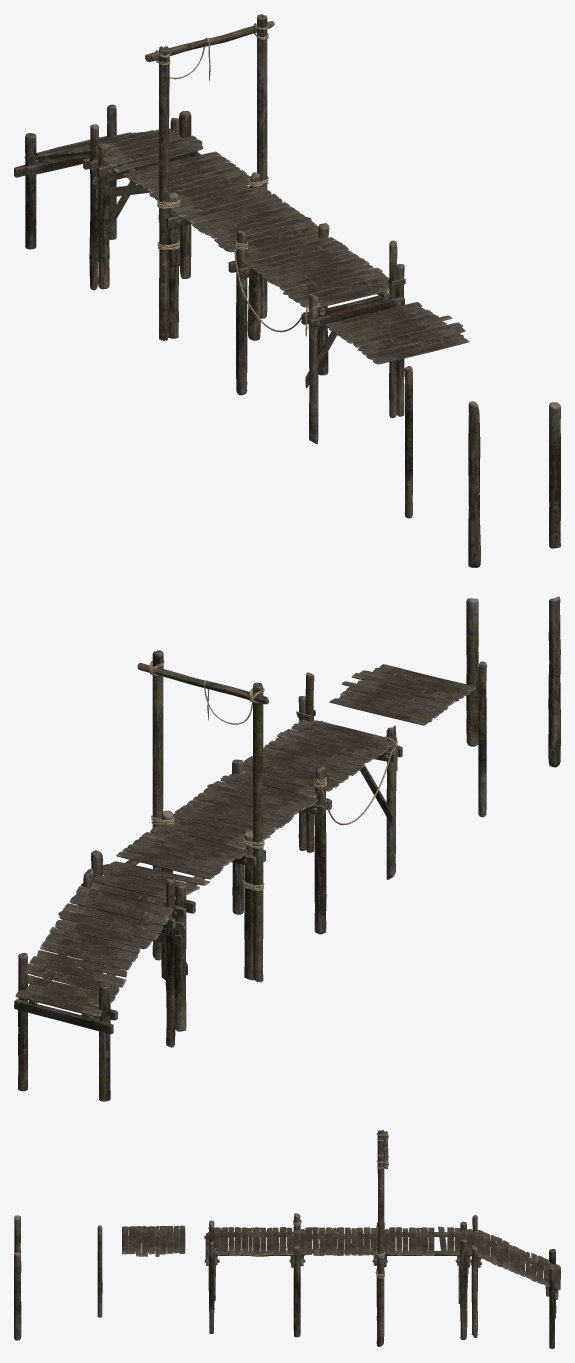
The model's file is modular_wooden_pier.glb.
3 renders of one model, top to bottom at view 1: azimuth 30°, elevation 25°; view 2: azimuth 150°, elevation 25°; view 3: azimuth 270°, elevation 25°, orthographic. The views are drawn at different scales.
Parts seen in each view (by area): view 1: modular_wooden_pier_section_01, modular_wooden_pier_section_03, modular_wooden_pier_section_02, modular_wooden_pier_section_05, modular_wooden_pier_section_04, modular_wooden_pier_planks, modular_wooden_pier_poles; view 2: modular_wooden_pier_section_04, modular_wooden_pier_section_01, modular_wooden_pier_section_03, modular_wooden_pier_section_02, modular_wooden_pier_section_05, modular_wooden_pier_poles, modular_wooden_pier_planks; view 3: modular_wooden_pier_section_01, modular_wooden_pier_section_04, modular_wooden_pier_section_03, modular_wooden_pier_section_02, modular_wooden_pier_planks, modular_wooden_pier_section_05, modular_wooden_pier_poles.
Boxes of the visible parts, x1=… form: modular_wooden_pier_section_01: x1=228, y1=223, x2=405, y2=444; modular_wooden_pier_section_03: x1=89, y1=111, x2=250, y2=289; modular_wooden_pier_section_02: x1=158, y1=172, x2=318, y2=340; modular_wooden_pier_section_05: x1=145, y1=14, x2=274, y2=341; modular_wooden_pier_section_04: x1=14, y1=104, x2=179, y2=290; modular_wooden_pier_planks: x1=325, y1=302, x2=469, y2=364; modular_wooden_pier_poles: x1=404, y1=366, x2=560, y2=567; modular_wooden_pier_section_04: x1=14, y1=868, x2=175, y2=1101; modular_wooden_pier_section_01: x1=225, y1=672, x2=402, y2=934; modular_wooden_pier_section_03: x1=81, y1=827, x2=247, y2=1031; modular_wooden_pier_section_02: x1=160, y1=775, x2=317, y2=980; modular_wooden_pier_section_05: x1=137, y1=650, x2=268, y2=982; modular_wooden_pier_poles: x1=466, y1=596, x2=560, y2=817; modular_wooden_pier_planks: x1=329, y1=664, x2=476, y2=725; modular_wooden_pier_section_01: x1=204, y1=1213, x2=305, y2=1337; modular_wooden_pier_section_04: x1=471, y1=1215, x2=560, y2=1348; modular_wooden_pier_section_03: x1=376, y1=1221, x2=473, y2=1339; modular_wooden_pier_section_02: x1=292, y1=1222, x2=389, y2=1346; modular_wooden_pier_planks: x1=122, y1=1225, x2=185, y2=1256; modular_wooden_pier_section_05: x1=375, y1=1130, x2=388, y2=1337; modular_wooden_pier_poles: x1=14, y1=1215, x2=102, y2=1340.
Size of the model in its own units: 3.1 by 7.52 by 19.03.
Materials: 2 (2 with a texture image).
